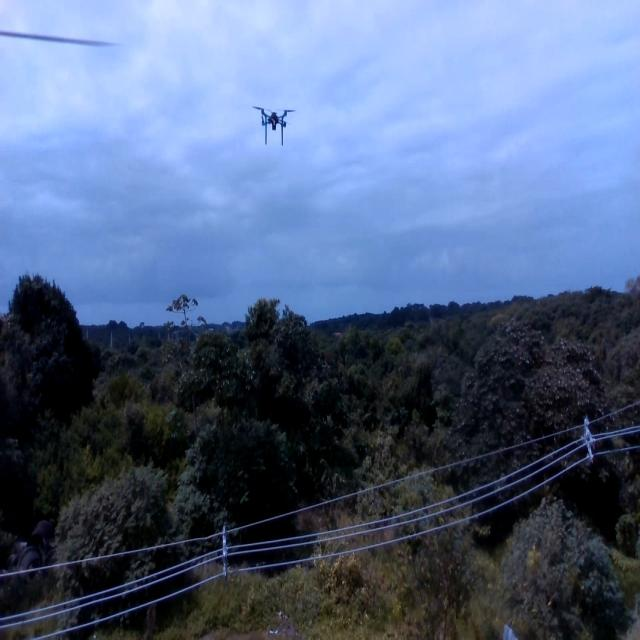-uav-: (252, 95, 298, 154)
